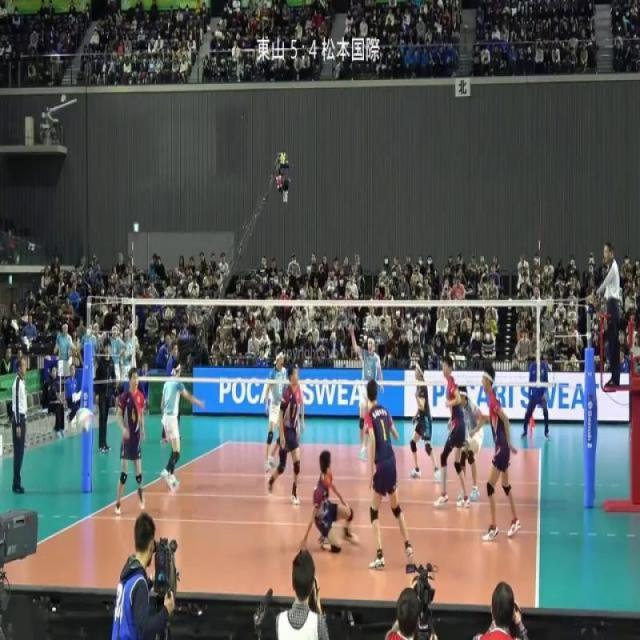volleyball: (76, 406, 92, 434)
